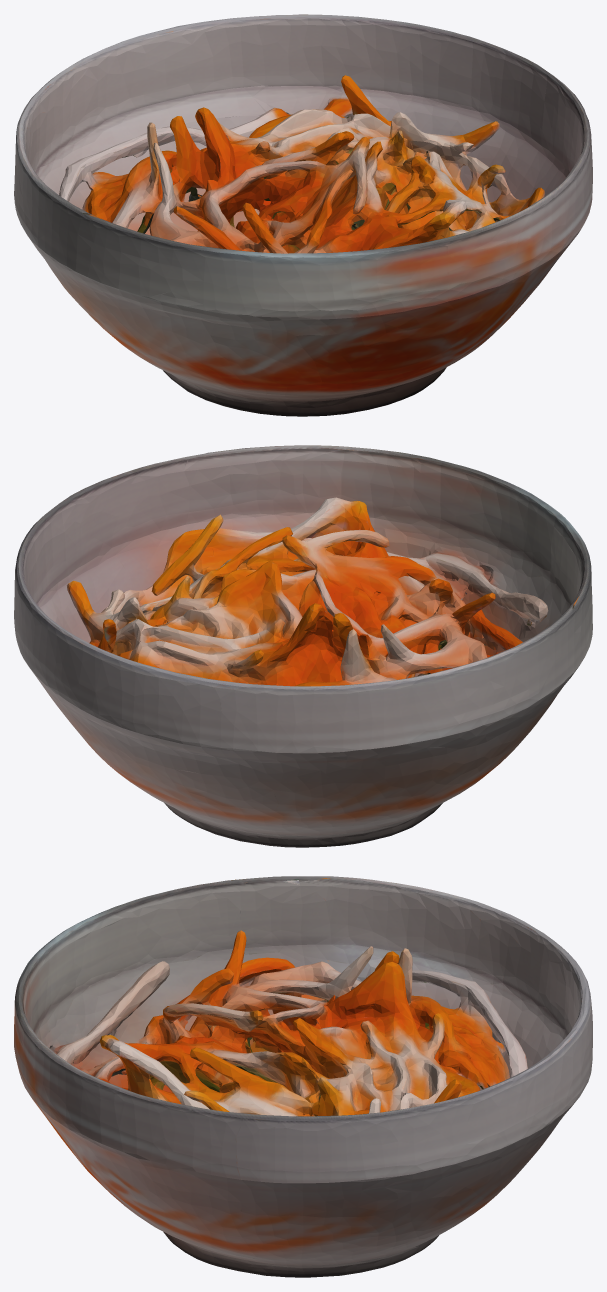
Rendered from do_chua.glb.
3 views of the same model, one above another, from view 1: azimuth 30°, elevation 25°; view 2: azimuth 150°, elevation 25°; view 3: azimuth 270°, elevation 25° (orthographic).
Visible parts, largest first — view 1: world; view 2: world; view 3: world.
Part boxes in pixels (x1=…): world: x1=14, y1=14, x2=592, y2=416; world: x1=14, y1=445, x2=592, y2=847; world: x1=14, y1=876, x2=592, y2=1277.
Size of the model in its own units: 0.9995 by 0.4388 by 0.9975.
Materials: 1 (1 with a texture image).
